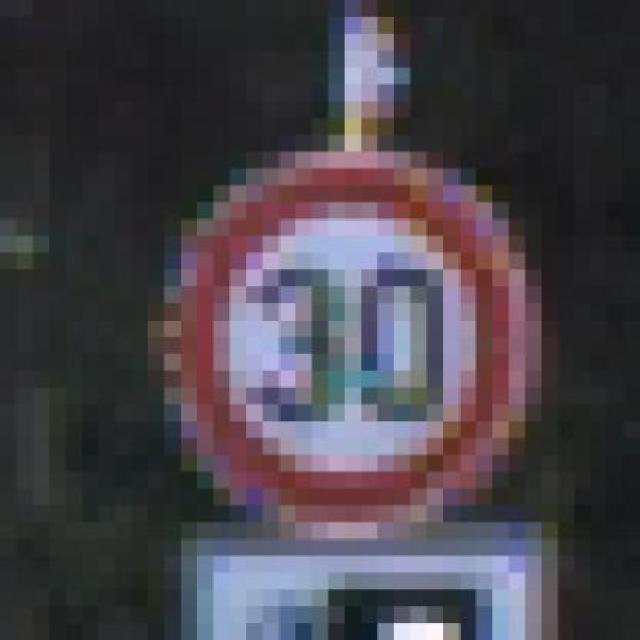Speed Limit 30 KMPh: (114, 135, 592, 556)
